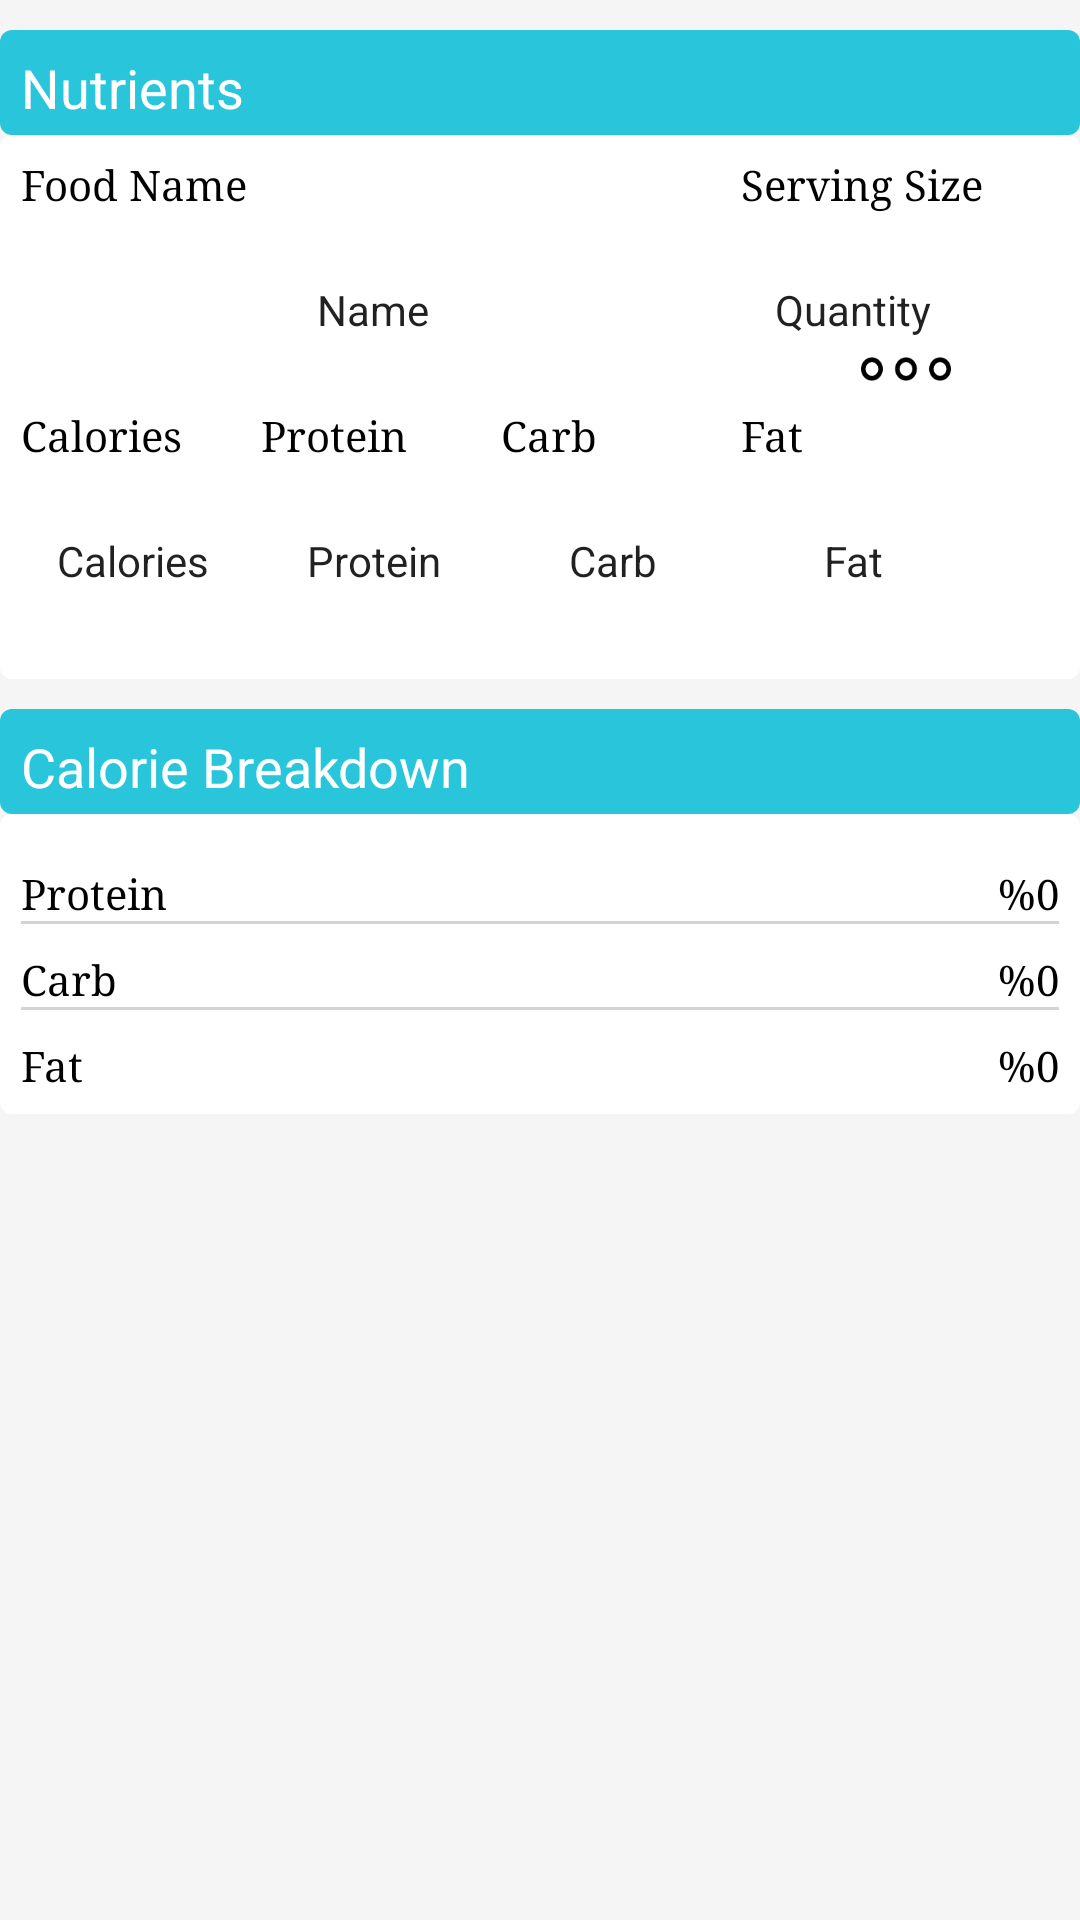

Screen size 1080*1920. Icon name, then its box in pixels as Rect(x1, y1, x2, y2):
dots: Rect(861, 357, 951, 381)
